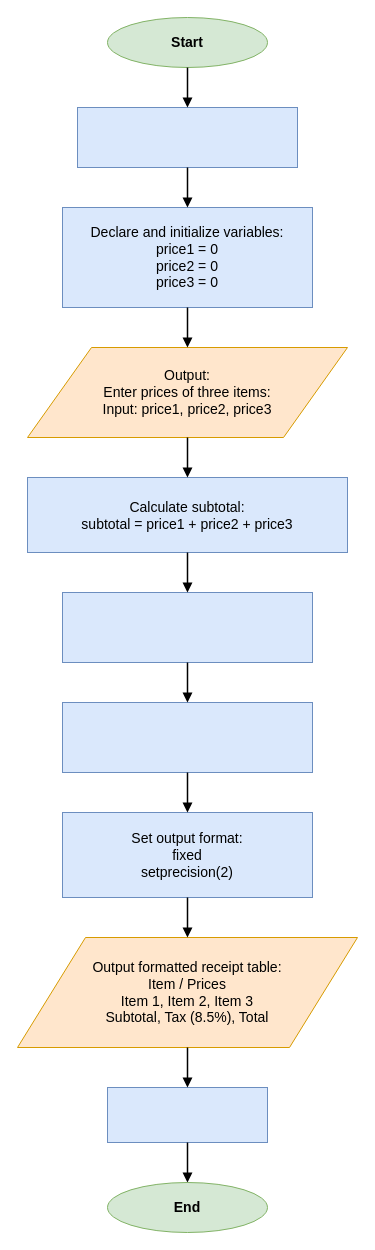
Some shapes in this 375 by 1250 pixel diagram are drawn without their labels. The centre of each missing label's shape, as x and y in pixels:
"Calculate tax: tax = subtotal × 0.085" goes at (187,627).
"Calculate total: total = subtotal + tax" goes at (187,737).
"Enter main() function" goes at (187,137).
"Return 0" goes at (187,1114).
